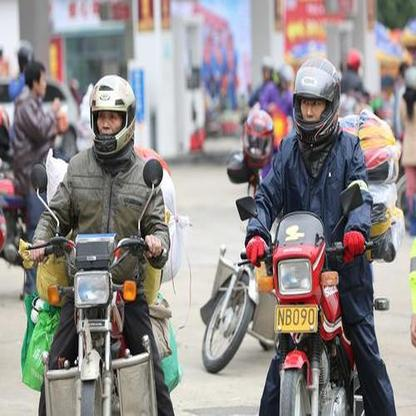target: (237, 55, 399, 414), (17, 72, 182, 412)
